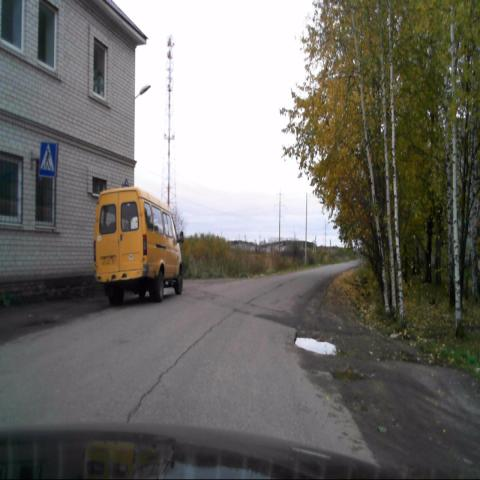5_19_1: (39, 142, 57, 177)
